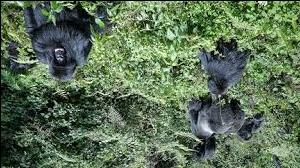goriile_montagne: (21, 0, 94, 87), (188, 44, 252, 94)
